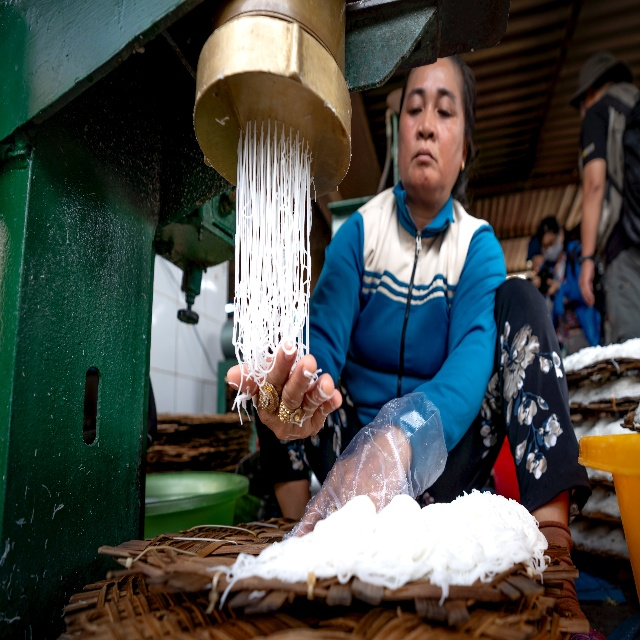Guantes: (284, 391, 446, 538)
Mascara: (543, 234, 563, 261)
Sin_guantes: (228, 337, 343, 442), (295, 442, 394, 536), (580, 258, 595, 306)
